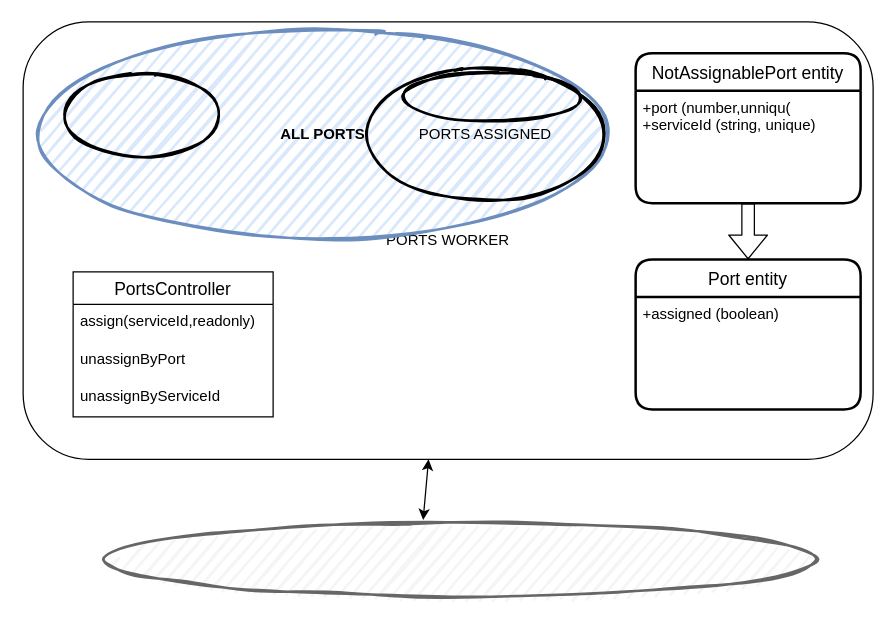
Some shapes in this 895 by 620 pixel diagram are drawn without their labels. Here are the shapes that lost their labels. From the top down, the centre of each, then its label:
At (x=141, y=115): "FREE PORTS".
At (x=491, y=96): "PORTS TAKEN BY DEFAULT".
At (x=460, y=559): "BACKEND SERVICES".
